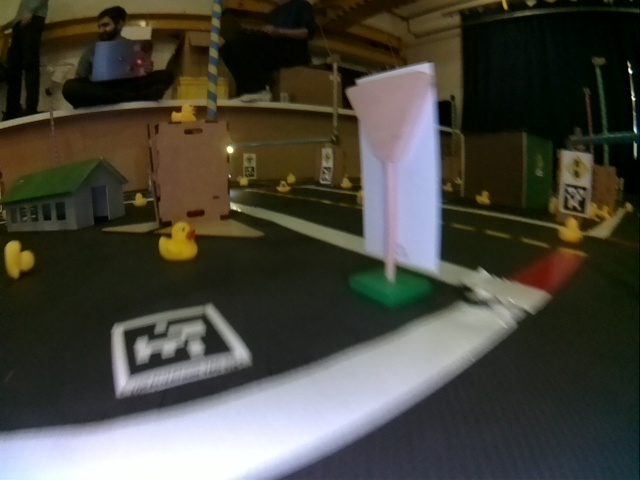Duckie: (160, 222, 198, 258), (5, 242, 32, 276), (560, 220, 581, 242), (173, 103, 195, 120), (476, 191, 490, 204), (134, 193, 148, 205), (277, 181, 290, 192), (341, 177, 351, 188)
QR code: (114, 307, 249, 389), (562, 182, 588, 212), (321, 167, 331, 182)
Signal sign: (563, 152, 591, 182)
